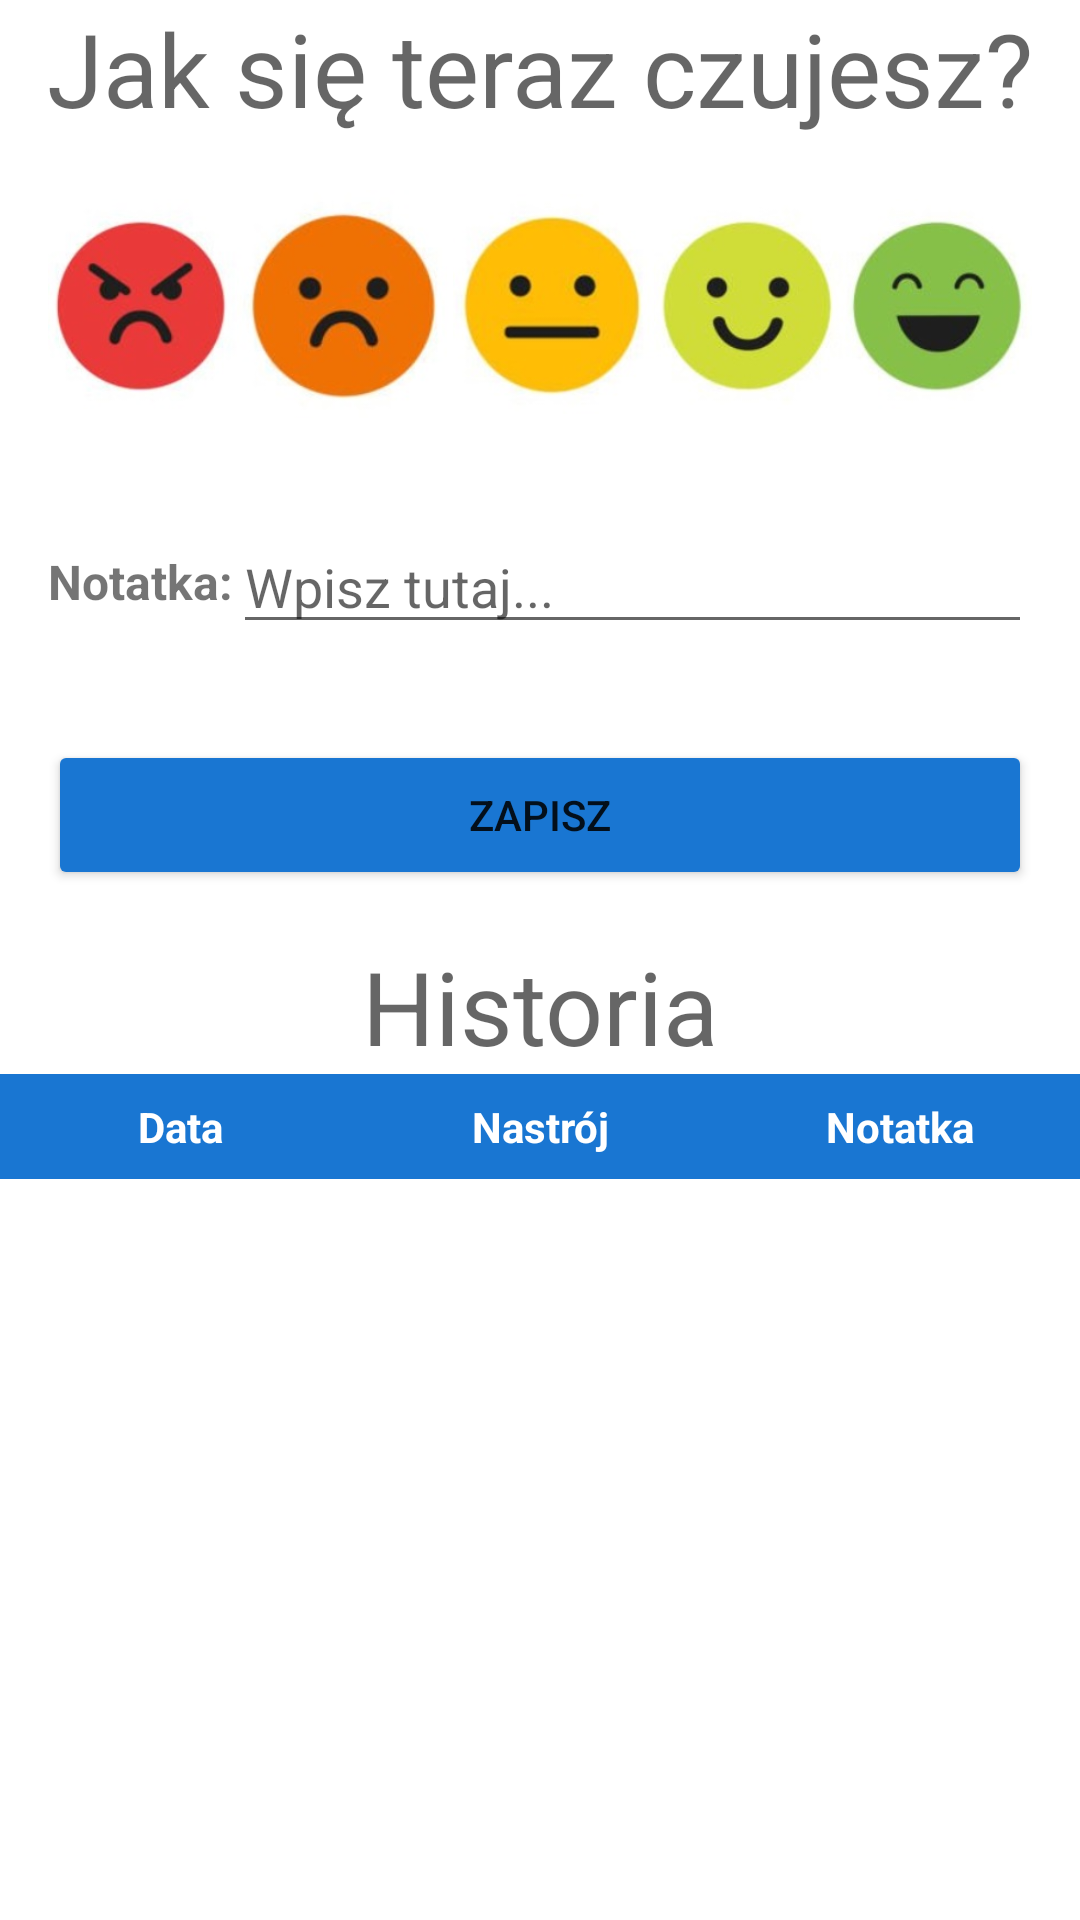

Named icons in this screenshot (1080x1920) and their bounding boxes, bbox(x1, y1, x2, y2):
angry: bbox(56, 221, 226, 391)
happy: bbox(852, 221, 1022, 391)
neutral: bbox(462, 215, 641, 395)
sad: bbox(251, 213, 436, 399)
smile: bbox(662, 221, 832, 391)
